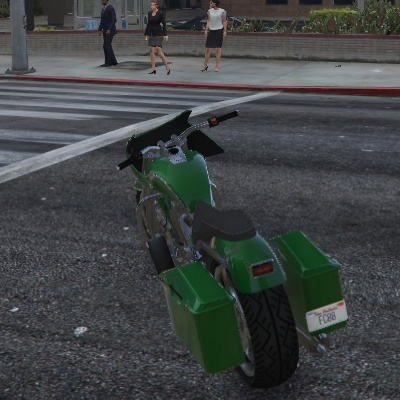off: (248, 254, 279, 282)
